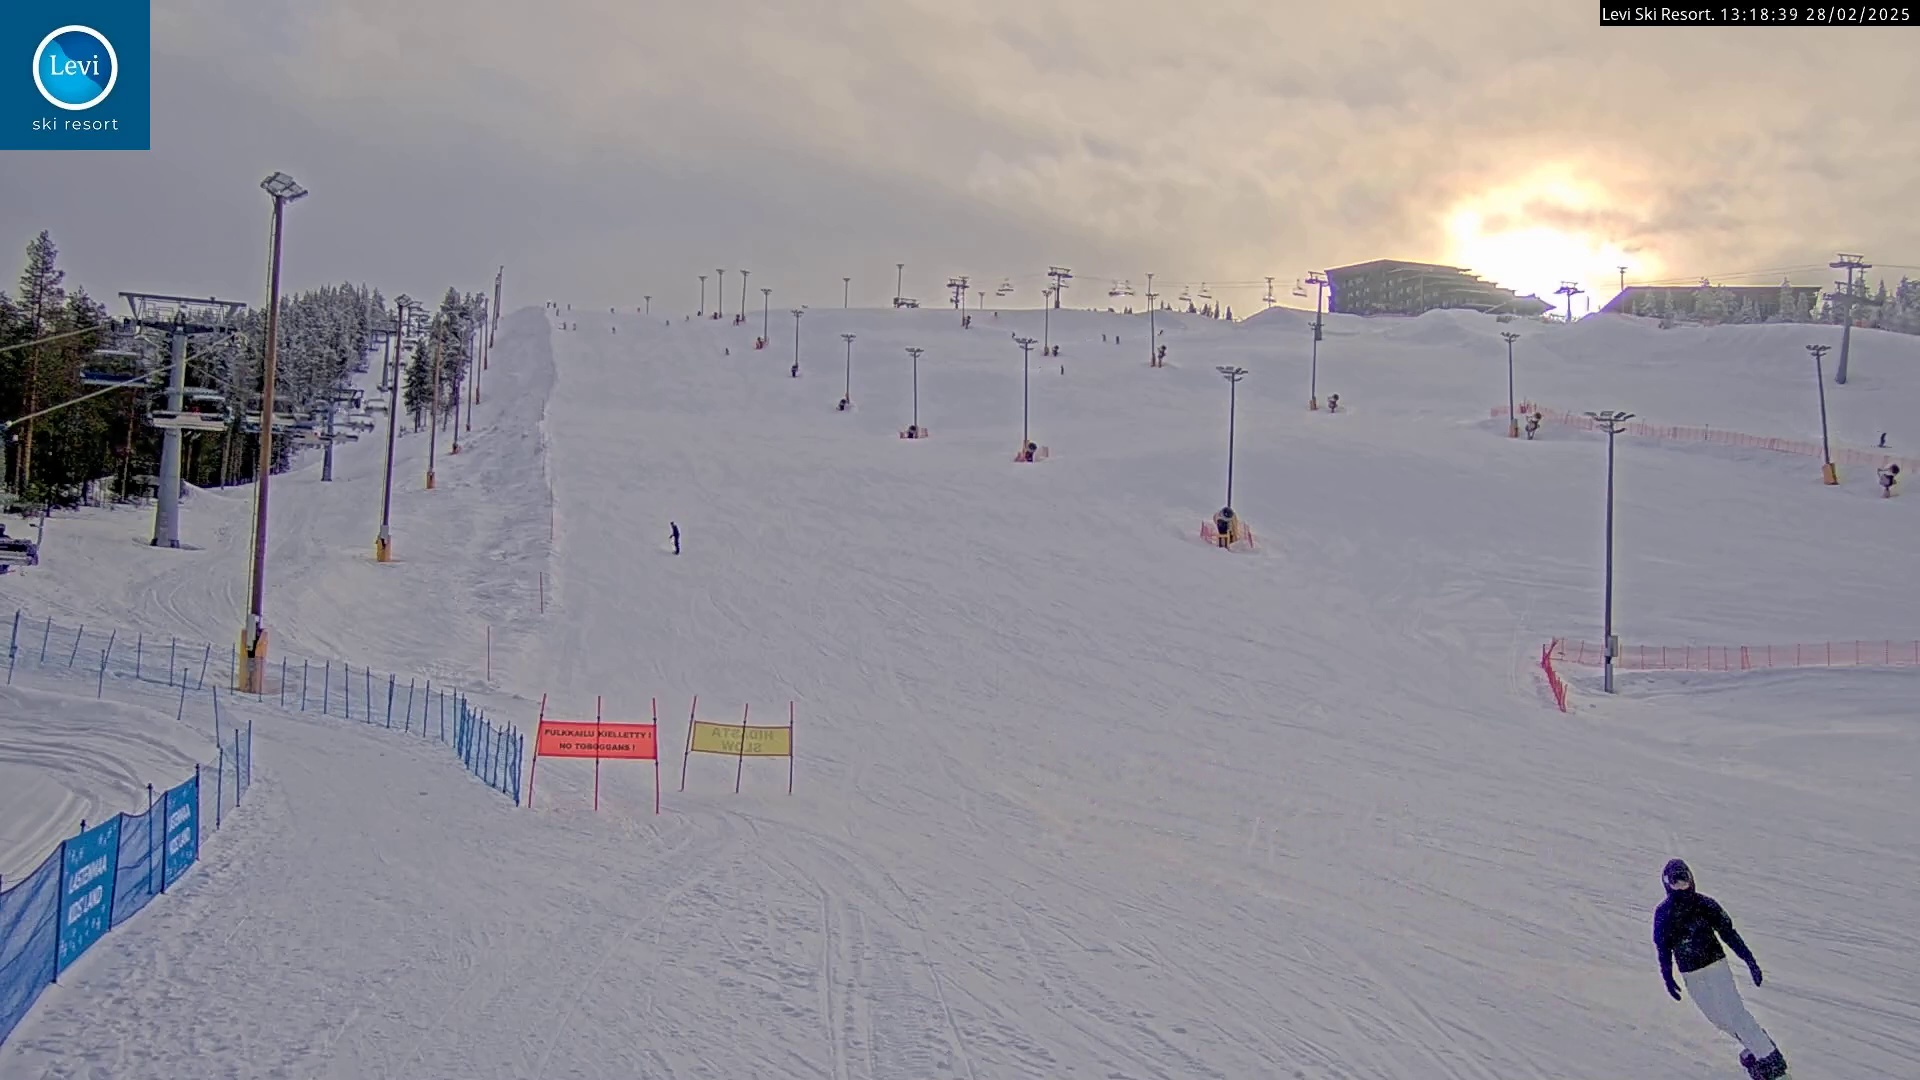snowboarder: (1646, 852, 1809, 1080)
